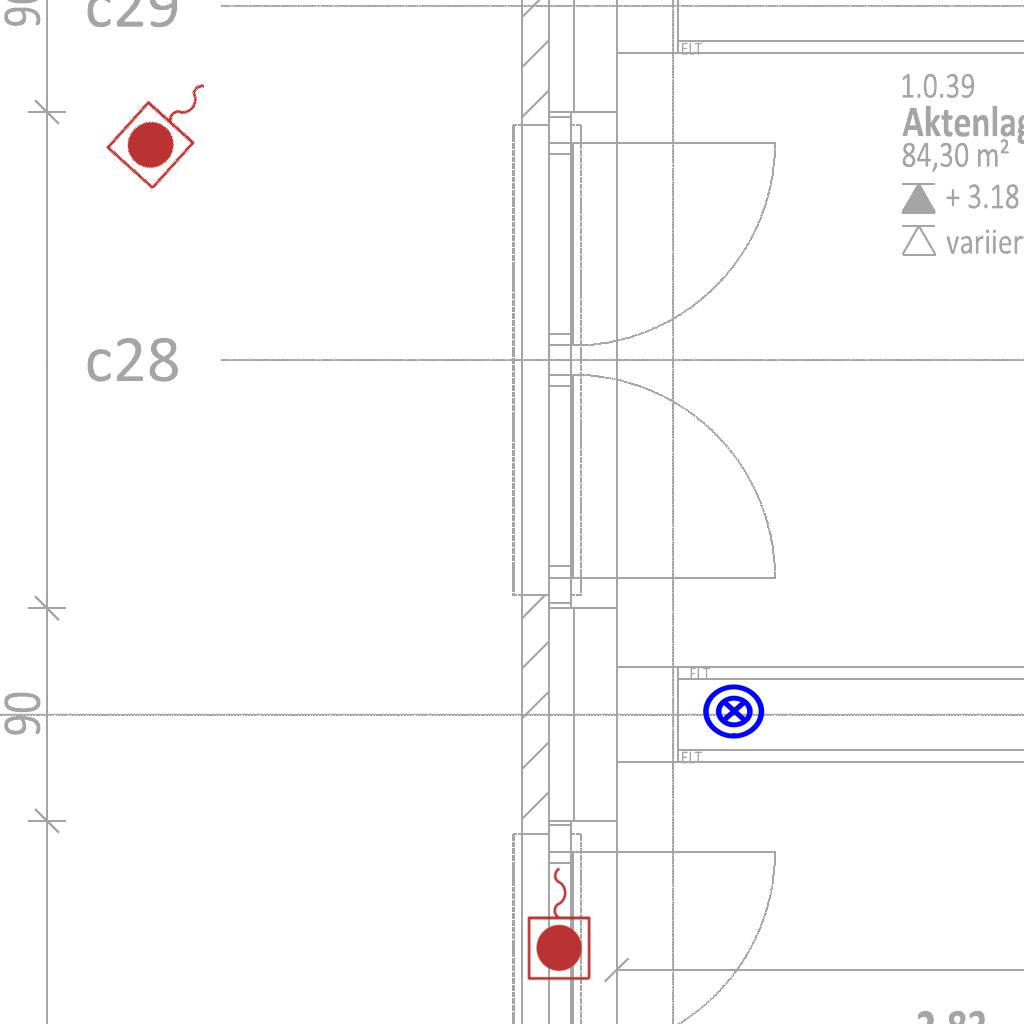Taster_beleuchtet: (701, 678, 767, 744)
Zugtaster: (100, 57, 236, 197), (524, 862, 596, 984)
